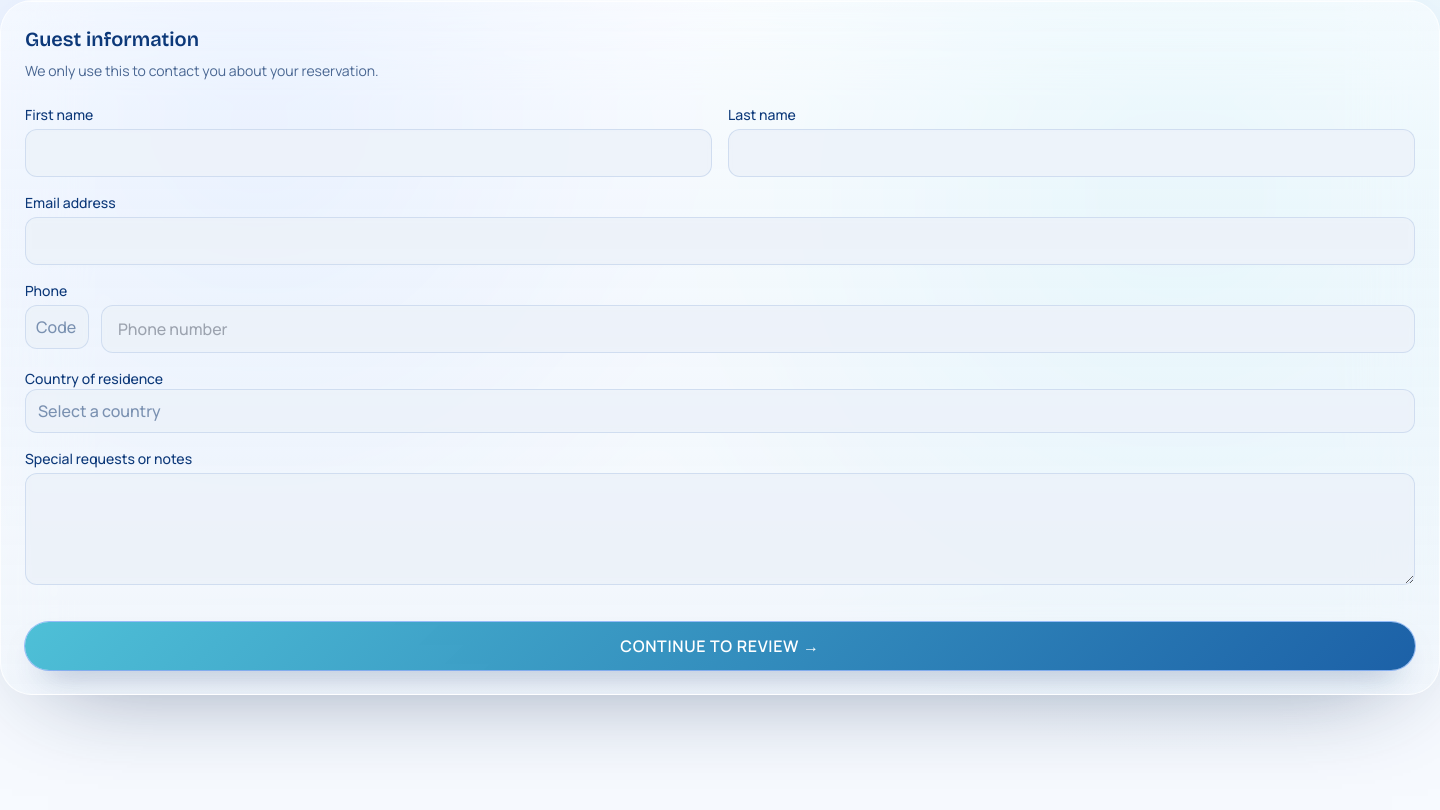
Test: GuestInformationStep — validation on empty submit › shows error for invalid email
This screenshot has width=1440, height=810.
Type "not-valid" into the field labelled "Email address" at (720, 241), box [25,217,1415,265]
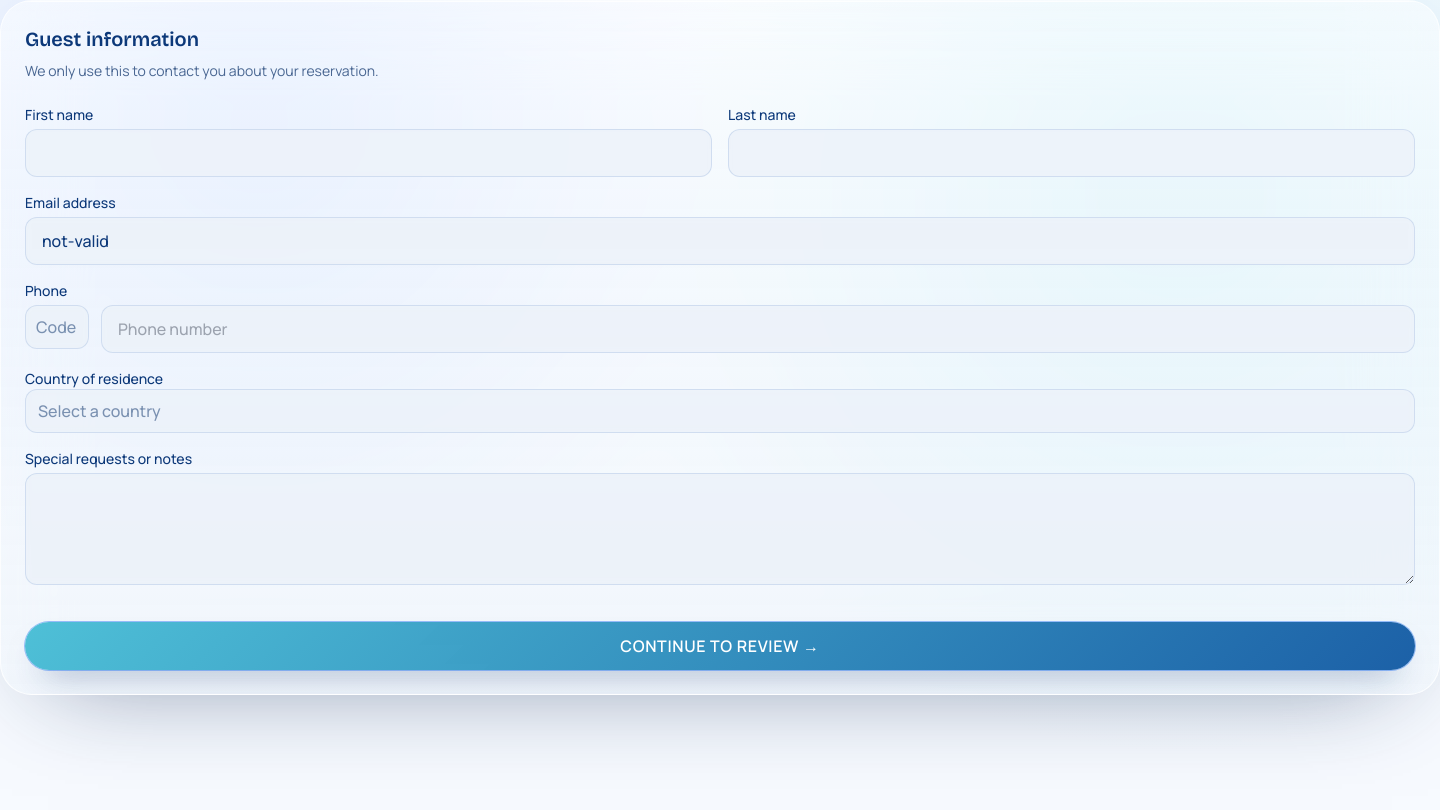
Click the button "Continue to review →" at (720, 646), box [25,622,1415,670]
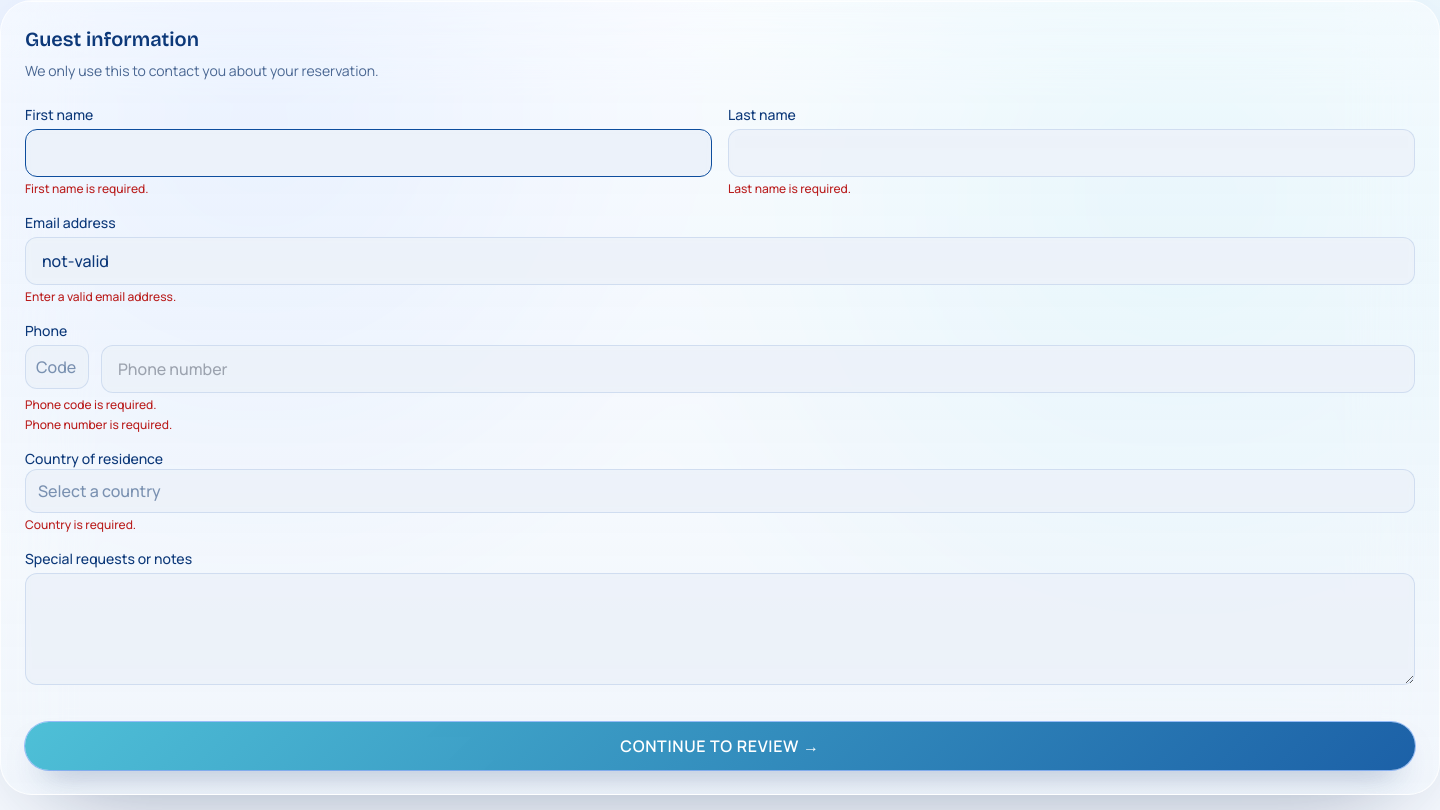
Result: the text "Enter a valid email address." is shown at [25,288,176,305]
